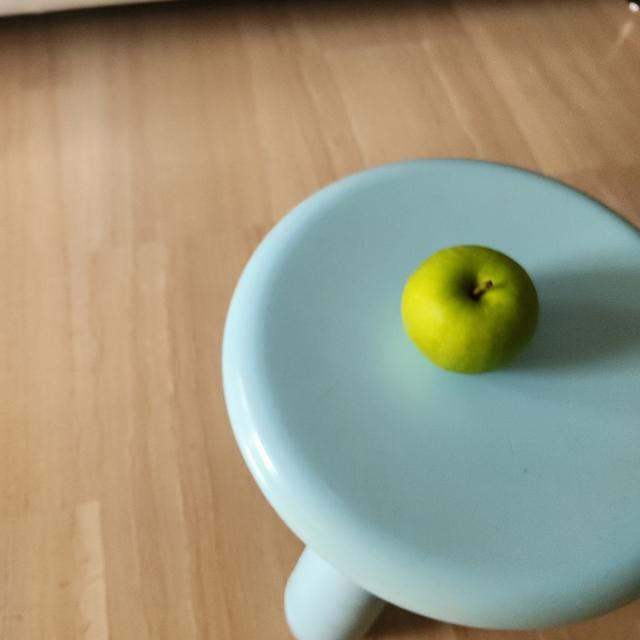apple: (394, 240, 544, 378)
